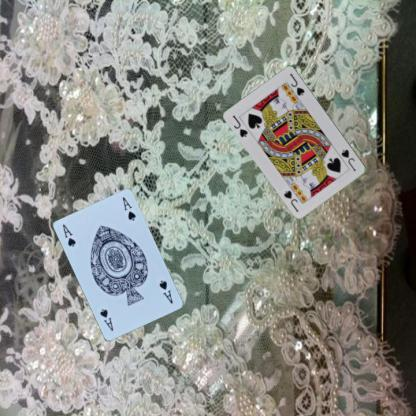As: (156, 278, 174, 305), (60, 222, 78, 248)
Js: (230, 112, 249, 138), (339, 147, 357, 173)
